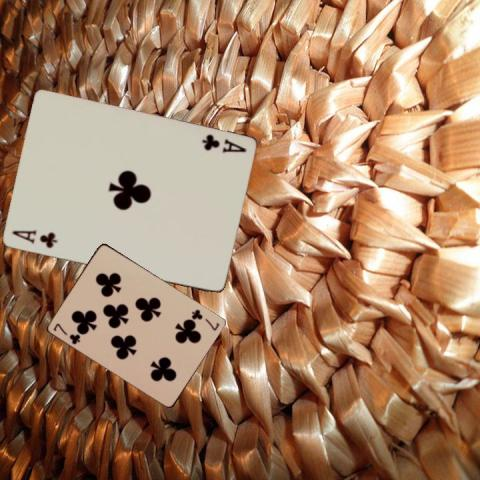7c: (188, 306, 220, 332), (51, 320, 82, 346)
Ac: (199, 131, 247, 155), (9, 227, 58, 250)
